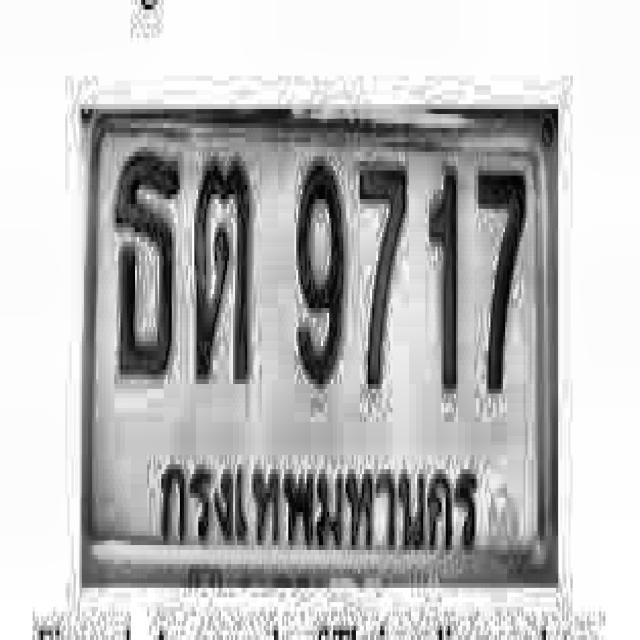license-plate: (74, 92, 564, 600)
